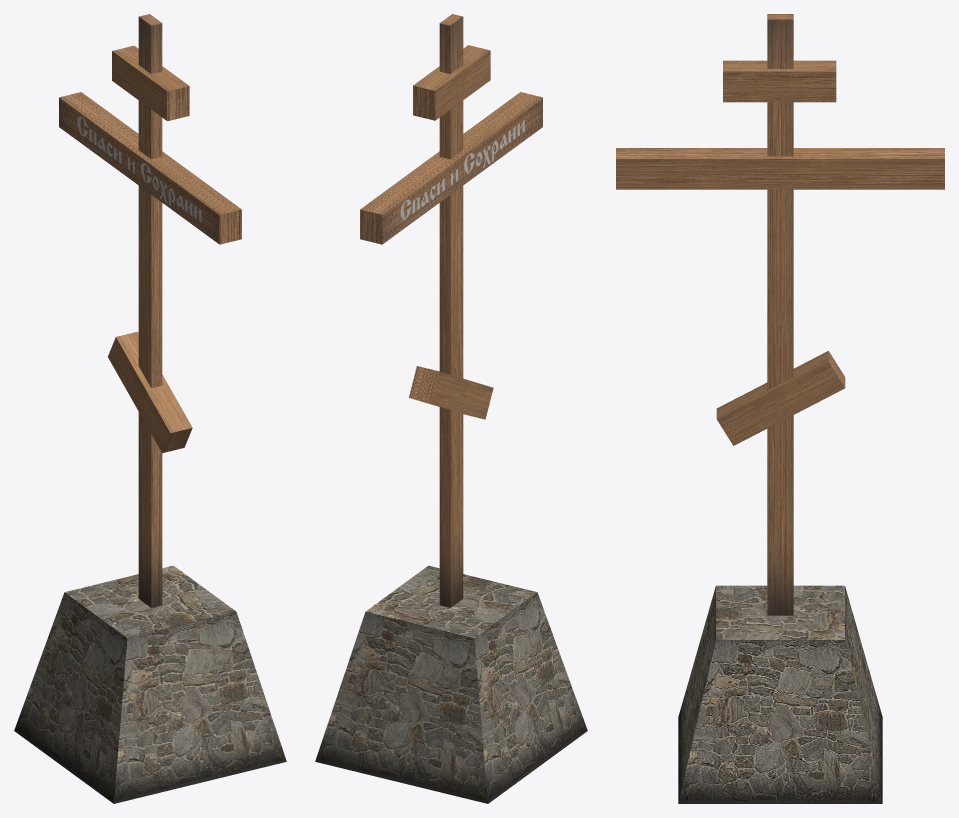
File: LYZA1Y6H5P2NNPOKHEVLI3HPV.obj
3 renders of one model, left to right at view 1: azimuth 30°, elevation 25°; view 2: azimuth 150°, elevation 25°; view 3: azimuth 270°, elevation 25°, orthographic. The views are drawn at different scales.
Visible parts, largest first — view 1: Object_TexMap_0; view 2: Object_TexMap_0; view 3: Object_TexMap_0.
Boxes of the visible parts, x1,y1,x2,y2 form: Object_TexMap_0: (14,14,286,803); Object_TexMap_0: (315,14,587,803); Object_TexMap_0: (616,14,944,803).
Bounding box in the file's own units: 0.6231 × 2.5 × 1.
Materials: 1 (1 with a texture image).
